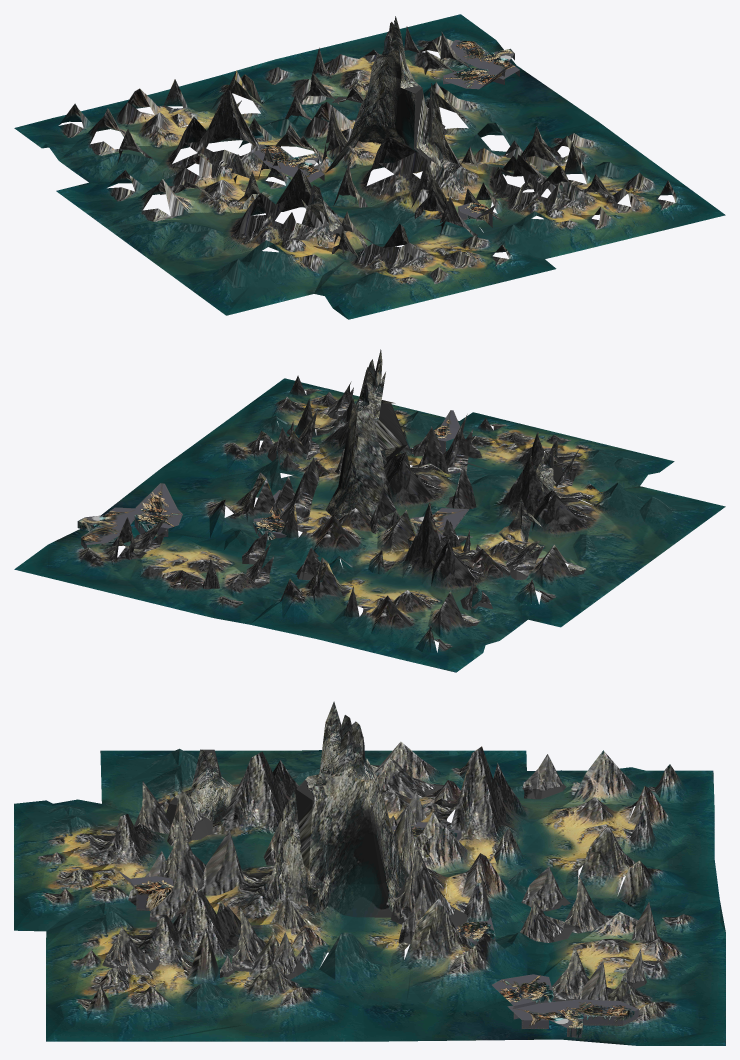
Rendered from F_EventIsland_08.fbx.
3 views of the same model, one above another, from view 1: azimuth 30°, elevation 25°; view 2: azimuth 150°, elevation 25°; view 3: azimuth 270°, elevation 25° (orthographic). The views are drawn at different scales.
Parts seen in each view (by area): view 1: E_Island_08; view 2: E_Island_08; view 3: E_Island_08.
Boxes of the visible parts, x1,y1,x2,y2 form: E_Island_08: [14, 14, 725, 319]; E_Island_08: [14, 349, 725, 672]; E_Island_08: [14, 701, 725, 1045].
Bounding box in the file's own units: 9.82 × 3.96 × 10.
Materials: 1 (1 with a texture image).
